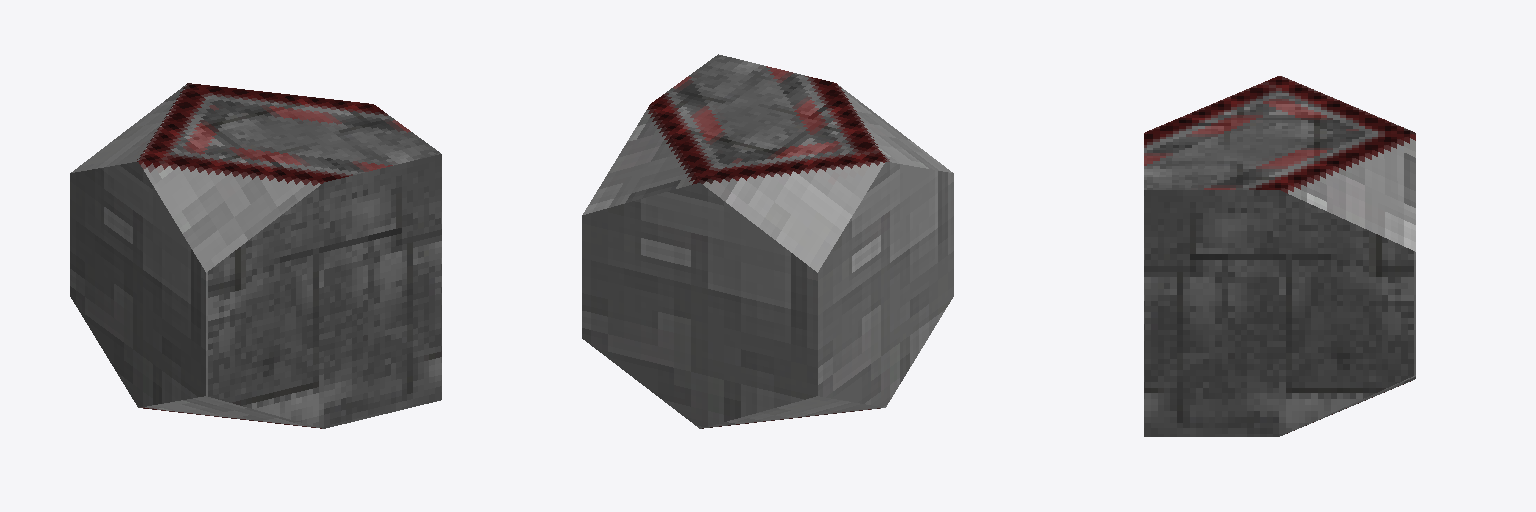
The picture shows the model from 3 angles: view 1: azimuth 30°, elevation 25°; view 2: azimuth 150°, elevation 25°; view 3: azimuth 270°, elevation 25°; orthographic projection.
Visible parts, largest first — view 1: bs_corner3; view 2: bs_corner3; view 3: bs_corner3.
Part boxes in pixels (x1,y1,x2,y2): bs_corner3: (70,83,441,428); bs_corner3: (582,54,953,428); bs_corner3: (1144,76,1415,436).
Bounding box in the file's own units: 2 × 2 × 2.
1 materials, 1 textured.